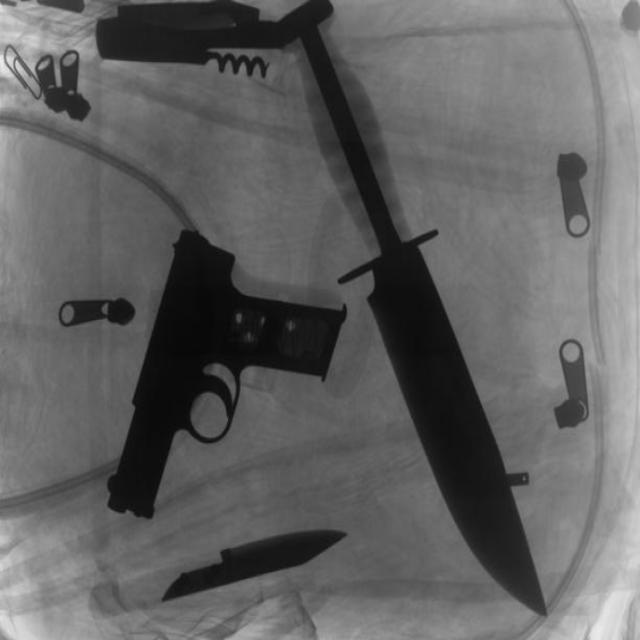GUN: (103, 239, 340, 524)
KNIFE: (159, 519, 346, 617)
